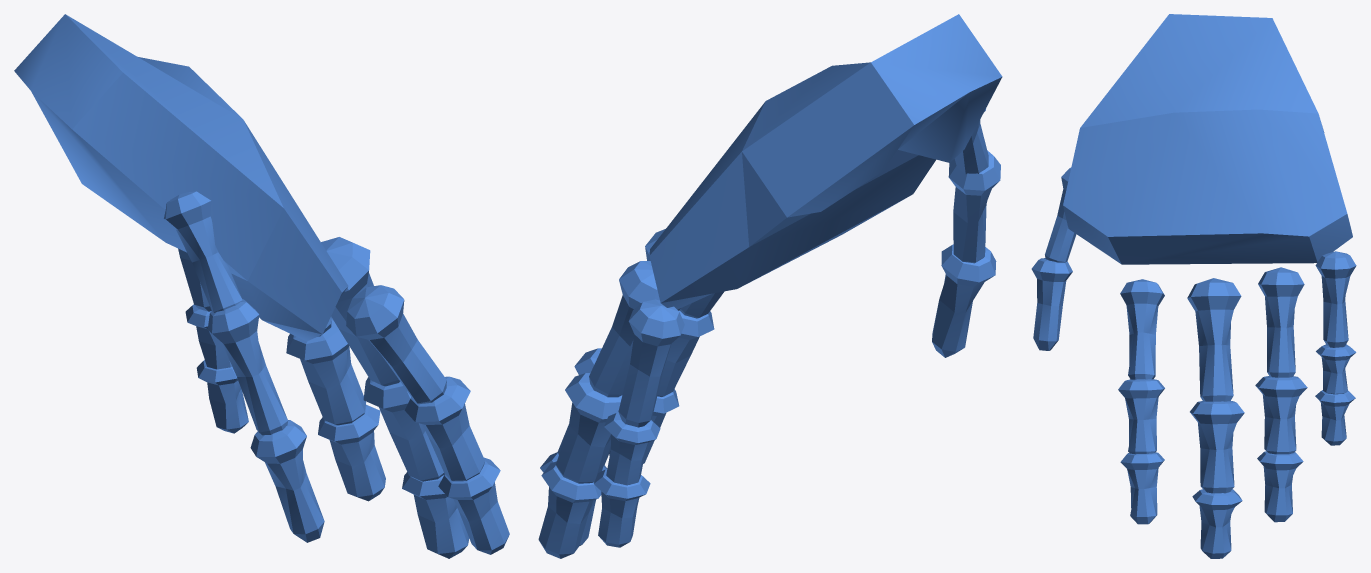
File: hand.obj
3 renders of one model, left to right at view 1: azimuth 30°, elevation 25°; view 2: azimuth 150°, elevation 25°; view 3: azimuth 270°, elevation 25°, orthographic. The views are drawn at different scales.
Parts seen in each view (by area): view 1: L_Hand, L_Finger1, L_Finger01, L_Finger31, L_Finger02, L_Finger11, L_Finger0, L_Finger32, L_Finger2, L_Finger12, L_Finger21, L_Finger22 (+3 smaller); view 2: L_Hand, L_Finger4, L_Finger31, L_Finger3, L_Finger02, L_Finger32, L_Finger01, L_Finger42, L_Finger41, L_Finger11, L_Finger0, L_Finger12 (+1 smaller); view 3: L_Hand, L_Finger2, L_Finger21, L_Finger3, L_Finger1, L_Finger31, L_Finger4, L_Finger02, L_Finger11, L_Finger22, L_Finger32, L_Finger12 (+3 smaller).
Part boxes in pixels (<box>): L_Hand: <box>14,14,348,341</box>; L_Finger1: <box>346,285,446,403</box>; L_Finger01: <box>207,299,287,435</box>; L_Finger31: <box>286,318,366,425</box>; L_Finger02: <box>250,420,324,542</box>; L_Finger11: <box>404,376,485,481</box>; L_Finger0: <box>164,191,242,312</box>; L_Finger32: <box>318,404,385,501</box>; L_Finger2: <box>321,237,399,386</box>; L_Finger12: <box>438,457,509,554</box>; L_Finger21: <box>363,377,444,481</box>; L_Finger22: <box>402,472,469,558</box>; L_Hand: <box>649,14,1002,309</box>; L_Finger4: <box>618,299,684,427</box>; L_Finger31: <box>556,372,622,483</box>; L_Finger3: <box>589,261,659,397</box>; L_Finger02: <box>932,244,996,357</box>; L_Finger32: <box>538,461,601,558</box>; L_Finger01: <box>948,150,1000,263</box>; L_Finger42: <box>594,469,650,547</box>; L_Finger41: <box>604,412,660,485</box>; L_Finger11: <box>657,310,714,396</box>; L_Finger0: <box>954,108,988,174</box>; L_Finger12: <box>609,389,679,463</box>; L_Hand: <box>1063,14,1352,264</box>; L_Finger2: <box>1187,278,1241,401</box>; L_Finger21: <box>1190,401,1244,493</box>; L_Finger3: <box>1258,267,1304,377</box>; L_Finger1: <box>1120,279,1164,379</box>; L_Finger31: <box>1255,376,1307,454</box>; L_Finger4: <box>1315,251,1356,347</box>; L_Finger02: <box>1031,258,1072,350</box>; L_Finger11: <box>1118,379,1164,454</box>; L_Finger22: <box>1192,489,1242,558</box>; L_Finger32: <box>1257,451,1303,522</box>; L_Finger12: <box>1120,452,1164,524</box>.
Size of the model in its own units: 0.7164 by 0.9503 by 0.6643.
